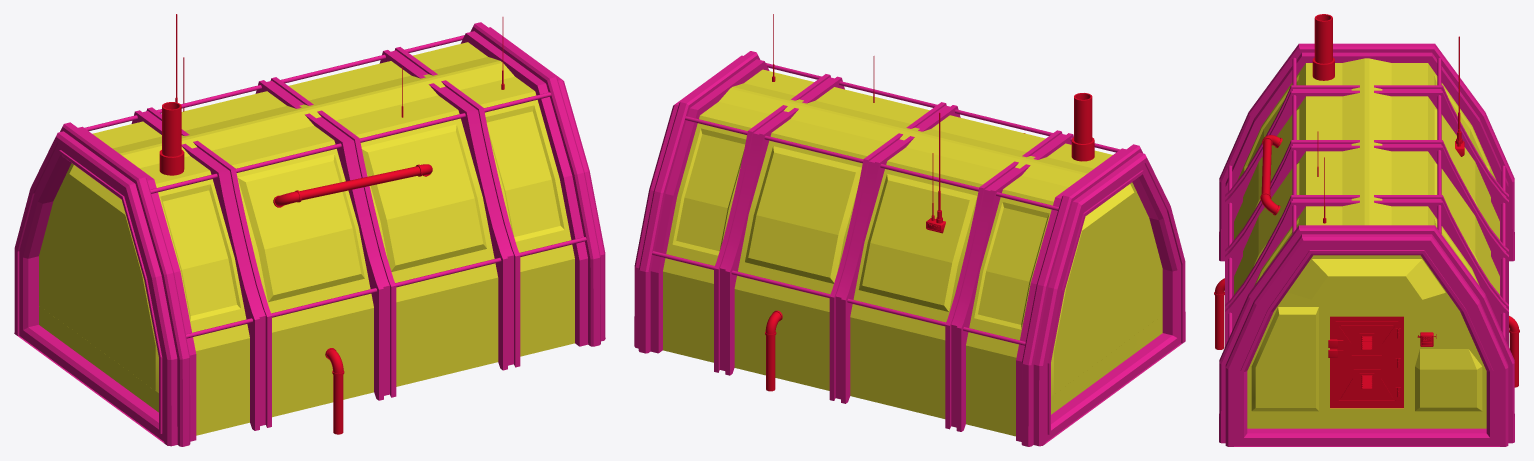
The model's file is SM_Bunker.fbx.
The picture shows the model from 3 angles, left to right: view 1: azimuth 30°, elevation 25°; view 2: azimuth 150°, elevation 25°; view 3: azimuth 270°, elevation 25°; orthographic projection. The views are drawn at different scales.
Visible parts, largest first — view 1: Base, Rims, Ribs, Rods, Long_Pipe.001, Chimney.001, Ground_Pipe.002; view 2: Base, Rims, Ribs, Rods, Chimney.001, Ground_Pipe.001, Antenna_Box.003; view 3: Base, Rims, Ribs, Door.001, Rods, Chimney.001, Long_Pipe.001, Ground_Pipe.002, Ground_Pipe.001, Antenna_Box.003.
Boxes of the visible parts, <box> form: Base: <box>39,42,574,435</box>; Rims: <box>14,22,605,446</box>; Ribs: <box>131,47,520,430</box>; Rods: <box>84,35,586,338</box>; Long_Pipe.001: <box>273,164,432,207</box>; Chimney.001: <box>159,102,184,175</box>; Ground_Pipe.002: <box>325,348,344,434</box>; Base: <box>663,69,1162,436</box>; Rims: <box>634,51,1185,446</box>; Ribs: <box>714,74,1073,431</box>; Rods: <box>652,63,1120,345</box>; Chimney.001: <box>1071,93,1094,161</box>; Ground_Pipe.001: <box>765,310,782,391</box>; Antenna_Box.003: <box>926,112,945,233</box>; Base: <box>1234,58,1499,428</box>; Rims: <box>1219,43,1514,446</box>; Ribs: <box>1225,85,1508,346</box>; Door.001: <box>1328,316,1403,408</box>; Rods: <box>1228,58,1505,338</box>; Chimney.001: <box>1312,14,1334,80</box>; Long_Pipe.001: <box>1260,135,1282,215</box>; Ground_Pipe.002: <box>1214,278,1224,349</box>; Ground_Pipe.001: <box>1509,316,1519,387</box>; Antenna_Box.003: <box>1455,36,1464,156</box>.
Bounding box in the file's own units: 729 × 1100 × 785.
